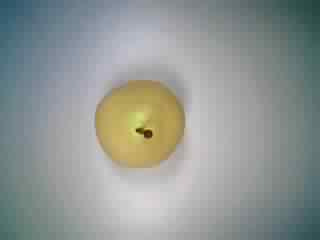pear: (91, 72, 195, 172)
